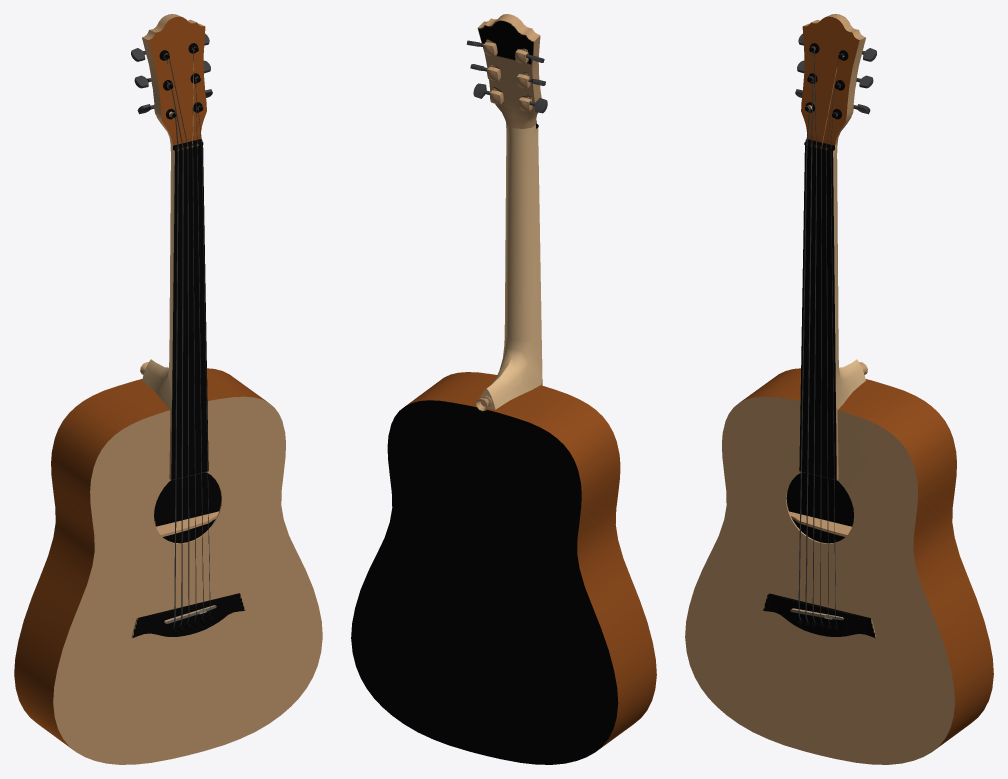
The model's file is guitar.glb.
The picture shows the model from 3 angles, left to right: view 1: azimuth 30°, elevation 25°; view 2: azimuth 150°, elevation 25°; view 3: azimuth 330°, elevation 25°; orthographic projection.
Parts seen in each view (by area): view 1: E_high_string.001; view 2: E_high_string.001; view 3: E_high_string.001.
Part boxes in pixels (x1,y1,x2,y2): E_high_string.001: [14, 14, 322, 764]; E_high_string.001: [351, 14, 656, 764]; E_high_string.001: [685, 14, 993, 764].
Size of the model in its own units: 0.3997 by 1.04 by 0.1198.
1 material, 1 textured.
